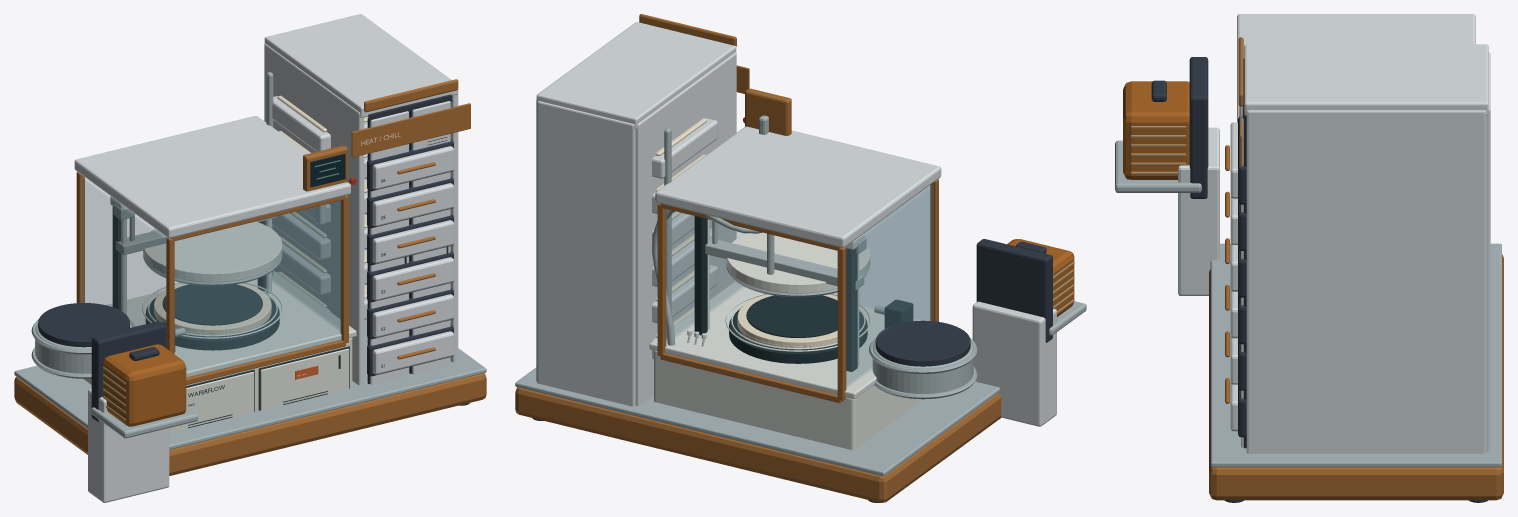
File: equipment-bake.glb
3 renders of one model, left to right at view 1: azimuth 30°, elevation 25°; view 2: azimuth 150°, elevation 25°; view 3: azimuth 270°, elevation 25°, orthographic. The views are drawn at different scales.
Parts seen in each view (by area): view 1: Front observation window, Bay filtered canopy, Segmented service plinth, Side service skin, Filtered ceiling, Side observation window, Raised deck edge, Satin service deck, Side observation window.001, Thermal cover, Independent load port base, Amber wafer transport pod (+40 smaller); view 2: Rear utility enclosure, Bay filtered canopy, Segmented service plinth, Side service skin, Precision cabinet, Side observation window, Filtered ceiling, Raised deck edge, Independent load port base, Satin service deck, Front observation window, Pod docking bulkhead (+26 smaller); view 3: Side service skin.001, Filtered ceiling, Raised deck edge, Segmented service plinth, Bay filtered canopy, Amber wafer transport pod, Independent load port base, Pod docking bulkhead, Rear utility enclosure, Pod docking shelf, Insulated hotplate drawer.005, Thermal drawer seal.005 (+1 smaller).
Boxes of the visible parts, box(x1,y1,x2,y2) form: Front observation window: box(175, 201, 341, 377); Bay filtered canopy: box(74, 116, 350, 238); Segmented service plinth: box(14, 373, 486, 475); Side service skin: box(264, 43, 364, 385); Filtered ceiling: box(264, 14, 457, 117); Side observation window: box(82, 177, 166, 326); Raised deck edge: box(14, 319, 486, 449); Satin service deck: box(106, 270, 356, 377); Side observation window.001: box(272, 201, 340, 328); Thermal cover: box(143, 221, 282, 282); Independent load port base: box(88, 388, 169, 502); Amber wafer transport pod: box(103, 344, 186, 426); Rear utility enclosure: box(537, 101, 635, 406); Bay filtered canopy: box(655, 126, 941, 247); Segmented service plinth: box(515, 387, 1001, 502); Side service skin: box(635, 52, 736, 405); Precision cabinet: box(654, 350, 923, 449); Side observation window: box(846, 185, 933, 387); Filtered ceiling: box(536, 22, 736, 129); Raised deck edge: box(515, 367, 1000, 476); Independent load port base: box(972, 301, 1056, 426); Satin service deck: box(649, 281, 922, 398); Front observation window: box(832, 186, 929, 320); Pod docking bulkhead: box(976, 239, 1052, 342); Side service skin.001: box(1246, 110, 1486, 453); Filtered ceiling: box(1244, 44, 1488, 115); Raised deck edge: box(1210, 243, 1501, 467); Segmented service plinth: box(1209, 254, 1503, 500); Bay filtered canopy: box(1237, 14, 1475, 122); Amber wafer transport pod: box(1123, 81, 1189, 179); Independent load port base: box(1178, 127, 1219, 295); Pod docking bulkhead: box(1189, 57, 1208, 198); Rear utility enclosure: box(1486, 52, 1490, 451); Pod docking shelf: box(1115, 140, 1201, 192); Insulated hotplate drawer.005: box(1230, 122, 1237, 198); Thermal drawer seal.005: box(1238, 117, 1246, 204).
Size of the model in its own units: 6.92 by 5.33 by 4.61.
